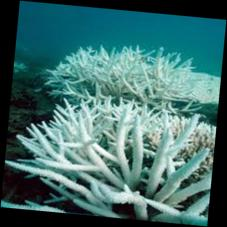bleached_corals: (2, 35, 223, 227)
